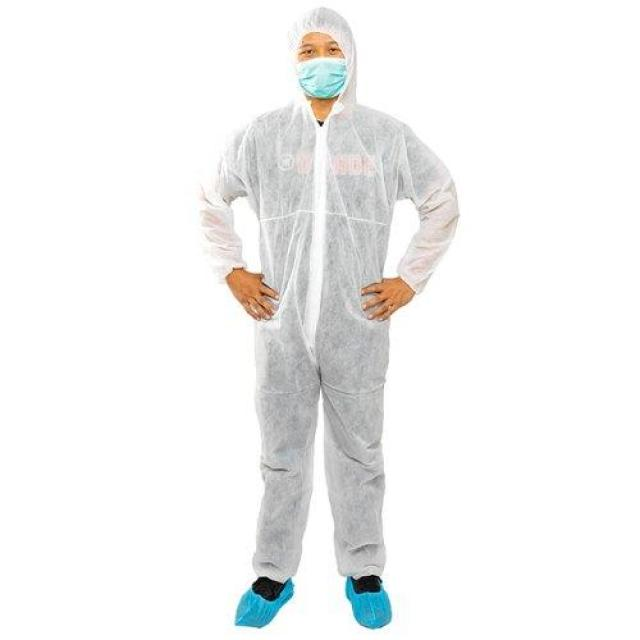Coverall: (183, 0, 413, 639)
Mask: (283, 61, 349, 96)
